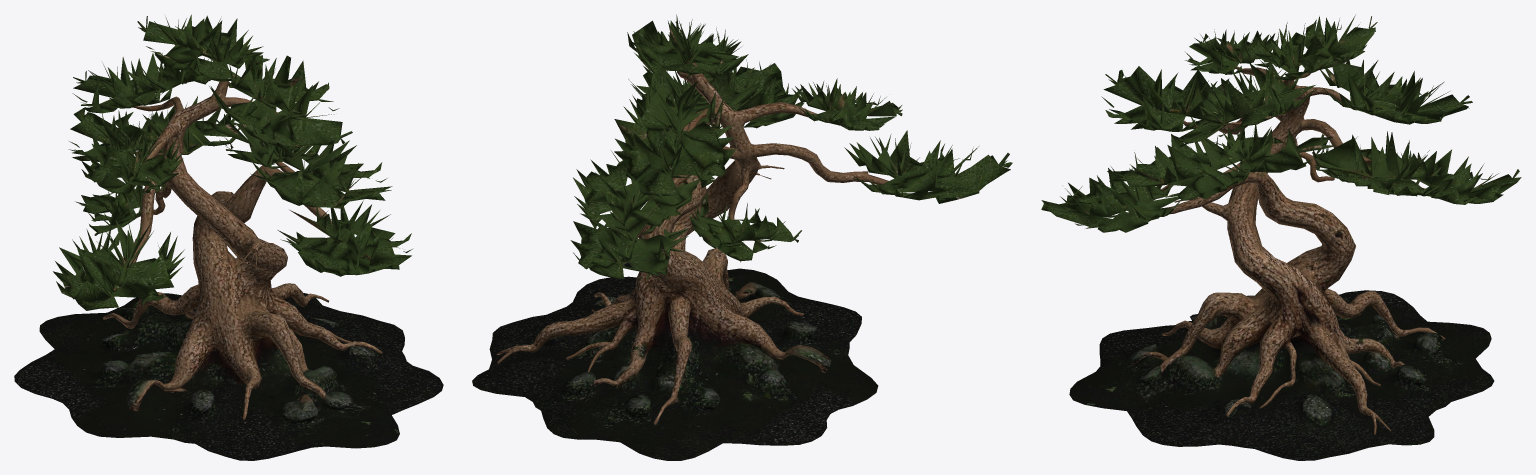
File: tripo_convert_d91b6b2e-804d-467b-bfc6-e478b6c04f79.fbx
The picture shows the model from 3 angles, left to right: view 1: azimuth 30°, elevation 25°; view 2: azimuth 150°, elevation 25°; view 3: azimuth 270°, elevation 25°; orthographic projection. The views are drawn at different scales.
Parts seen in each view (by area): view 1: tripo_node_d91b6b2e; view 2: tripo_node_d91b6b2e; view 3: tripo_node_d91b6b2e.
Boxes of the visible parts, x1=… form: tripo_node_d91b6b2e: x1=14, y1=14, x2=443, y2=460; tripo_node_d91b6b2e: x1=472, y1=14, x2=1012, y2=460; tripo_node_d91b6b2e: x1=1041, y1=15, x2=1521, y2=460.
Size of the model in its own units: 0.9746 by 0.7949 by 0.998.
1 material, 1 textured.
